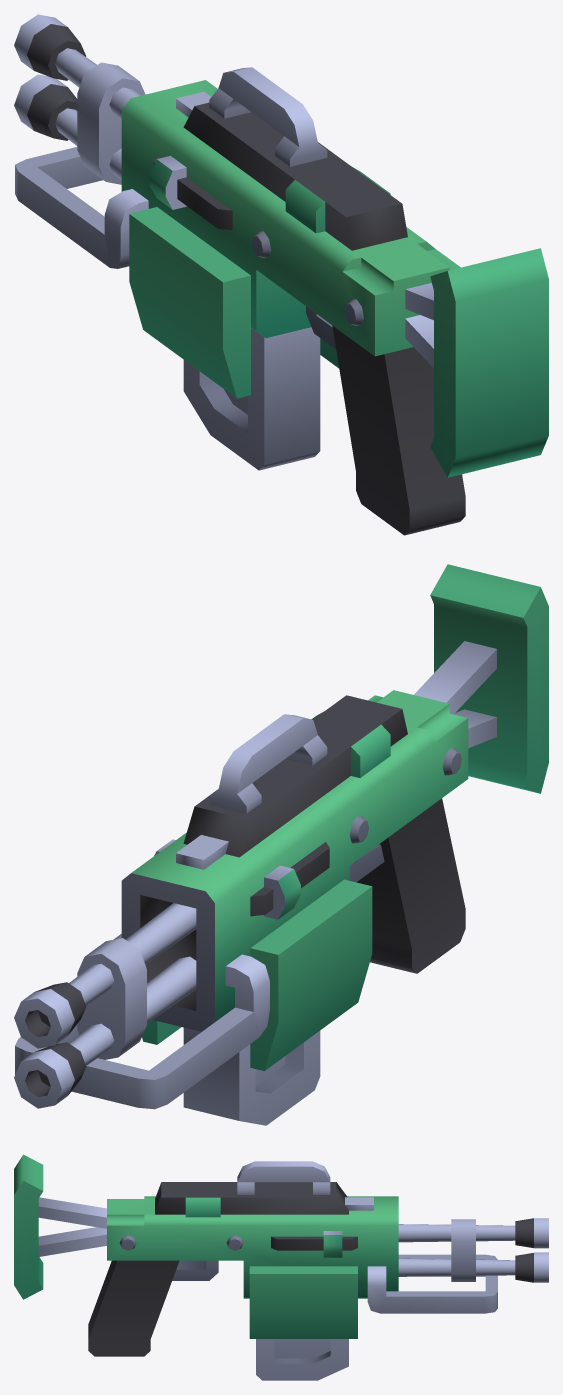
Rendered from weapon_heavy_nailgun.glb.
3 renders of one model, top to bottom at view 1: azimuth 30°, elevation 25°; view 2: azimuth 150°, elevation 25°; view 3: azimuth 270°, elevation 25°, orthographic. The views are drawn at different scales.
Visible parts, largest first — view 1: blaster-p, magazine; view 2: blaster-p, magazine; view 3: blaster-p, magazine.
Boxes of the visible parts, x1,y1,x2,y2 form: blaster-p: [14, 14, 548, 535]; magazine: [183, 327, 320, 470]; blaster-p: [14, 564, 548, 1109]; magazine: [183, 1027, 320, 1125]; blaster-p: [14, 1154, 548, 1356]; magazine: [256, 1339, 348, 1380].
Bounding box in the file's own units: 0.16 × 0.3709 × 0.8621.
Materials: 1 (1 with a texture image).
